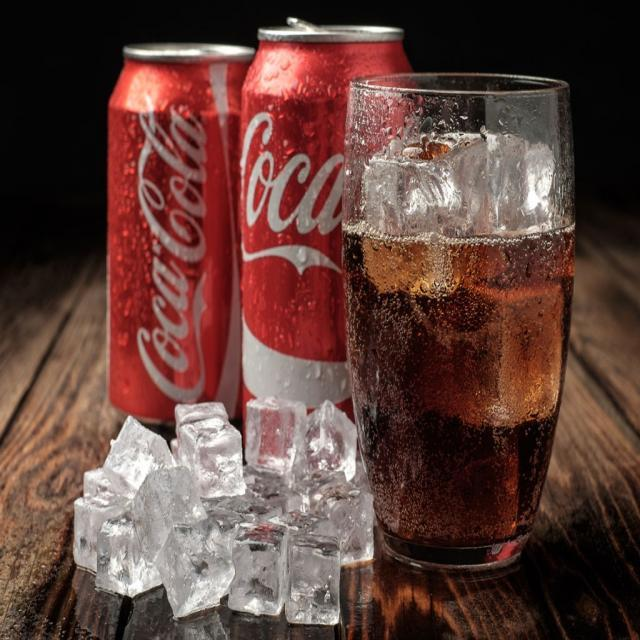Coke: (339, 66, 585, 584), (239, 23, 420, 470), (101, 34, 261, 430)
